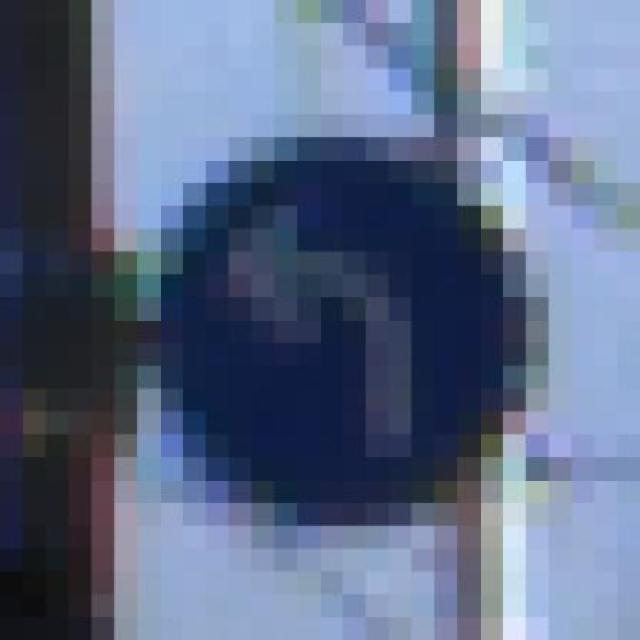Turn left ahead: (160, 114, 549, 549)
